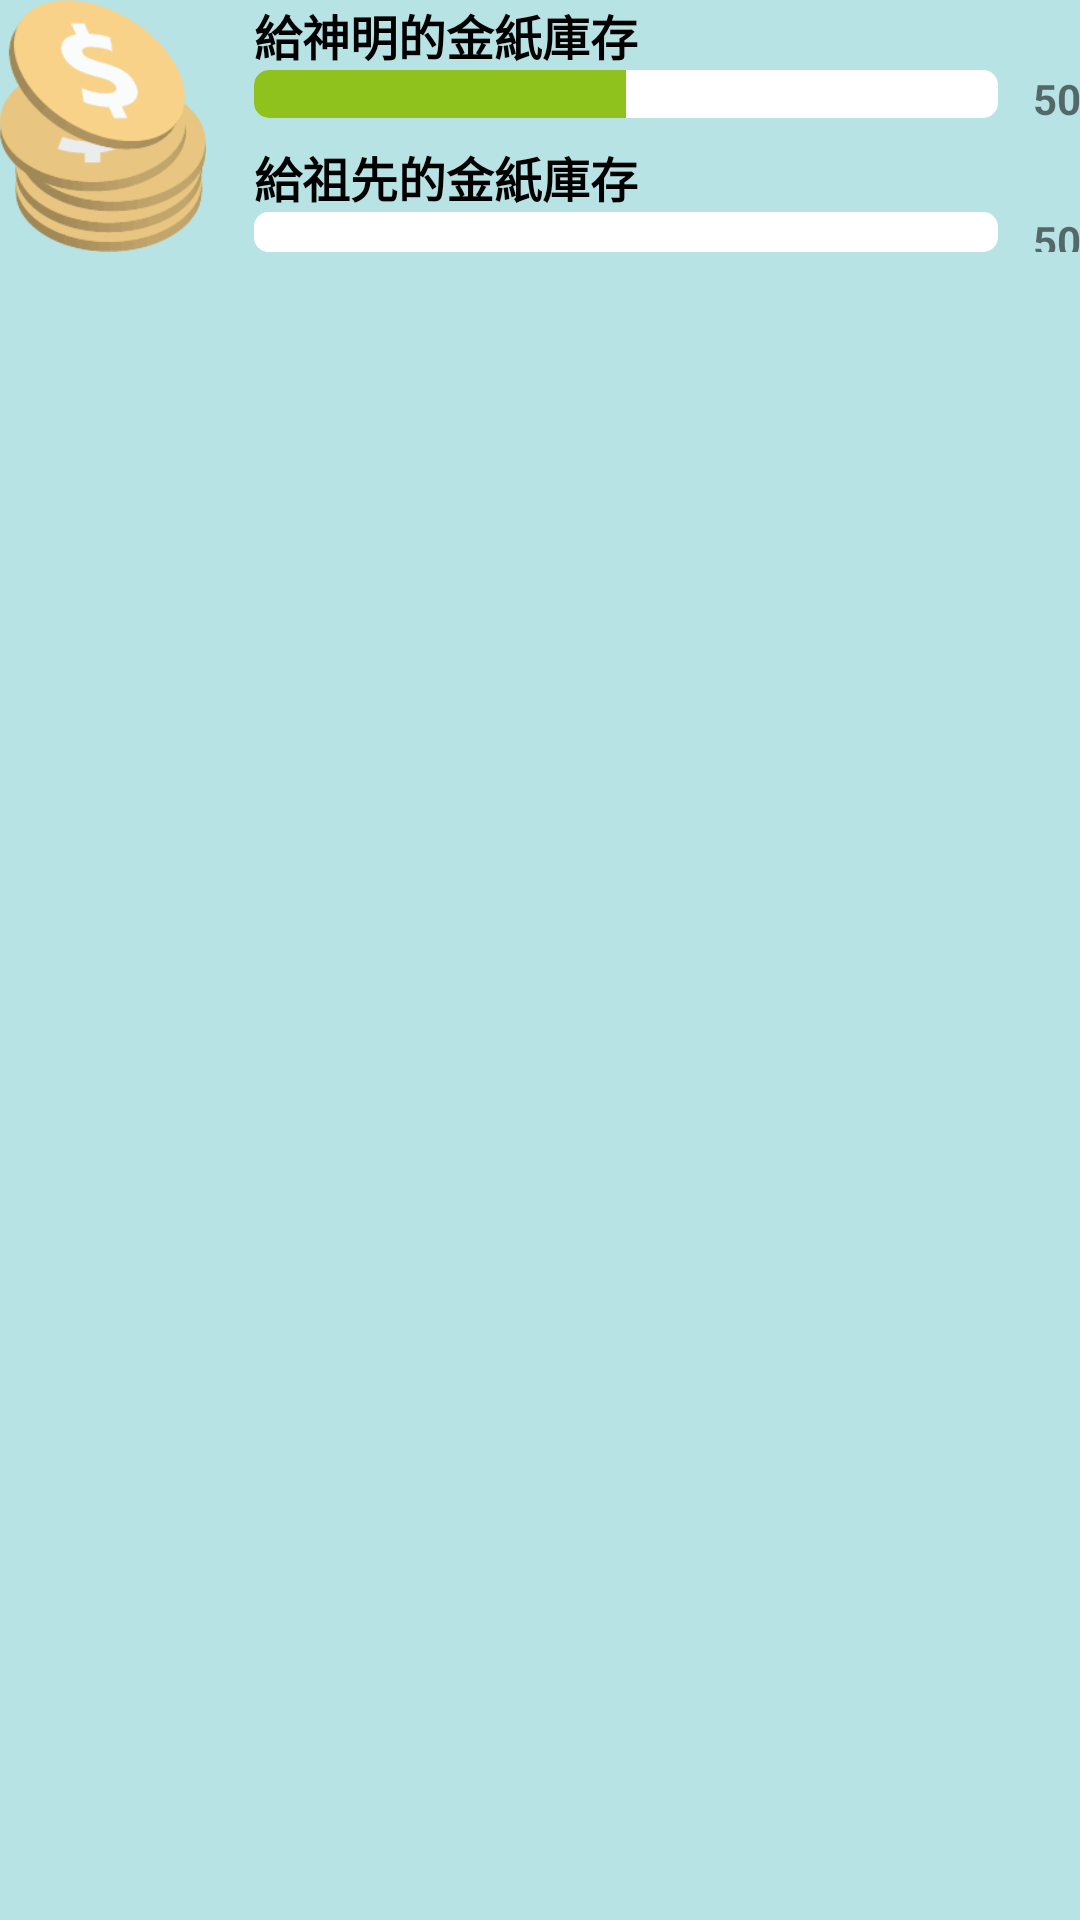

Icons on this 1080*1920 Android screen, each with the point to tap as point (x, y):
coins: point (103, 126)
